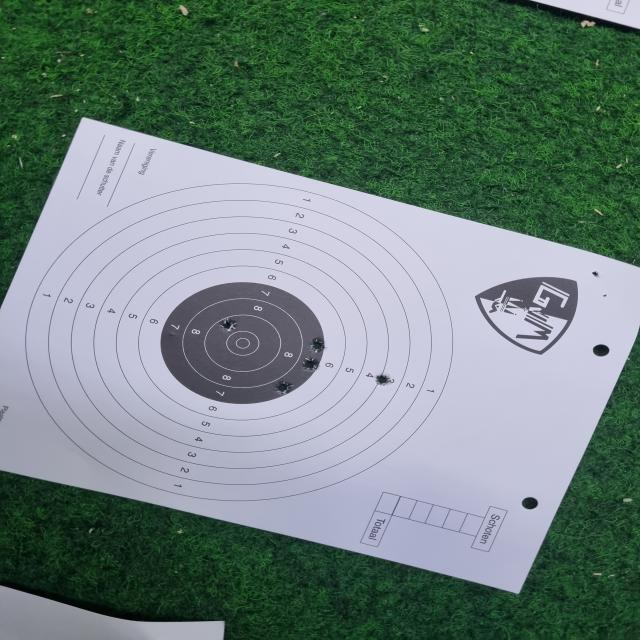4: (375, 375, 391, 386)
7: (304, 338, 325, 355), (275, 382, 294, 394), (302, 358, 318, 371)
9: (220, 319, 238, 331)
Target: (24, 184, 458, 500)
black_contour: (160, 282, 325, 404)
